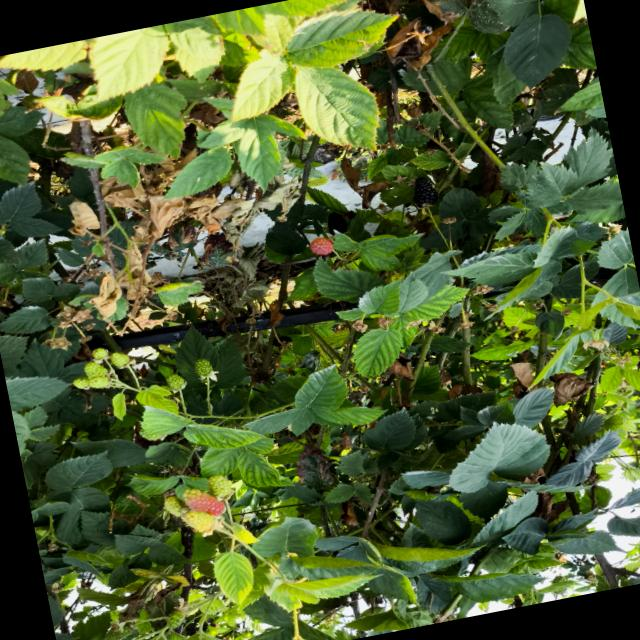maduro: (414, 177, 438, 208)
naranja: (183, 489, 224, 516), (310, 238, 334, 255)
verde: (183, 510, 217, 536), (208, 475, 234, 499), (195, 359, 218, 381), (164, 495, 188, 516), (166, 374, 186, 392), (84, 362, 106, 378), (166, 610, 184, 629), (110, 353, 130, 368), (88, 375, 109, 388), (92, 348, 109, 363), (73, 377, 90, 390)
